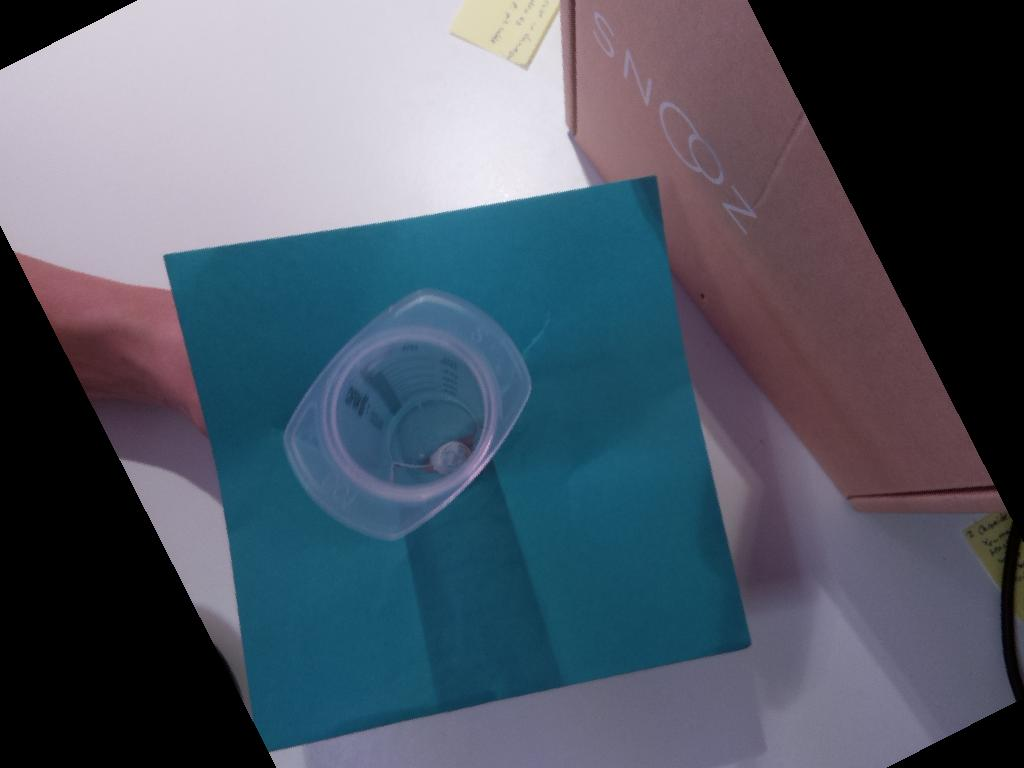clean: (280, 284, 533, 541)
